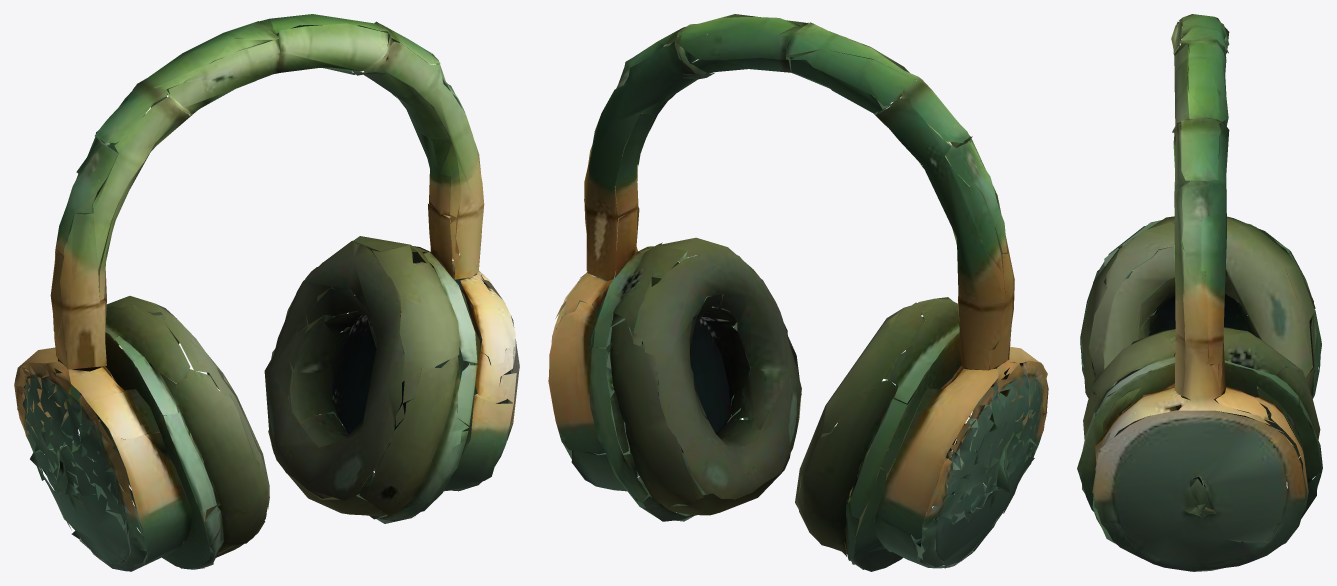
File: bamboo_phones.glb
3 renders of one model, left to right at view 1: azimuth 30°, elevation 25°; view 2: azimuth 150°, elevation 25°; view 3: azimuth 270°, elevation 25°, orthographic. The views are drawn at different scales.
Parts seen in each view (by area): view 1: low; view 2: low; view 3: low.
Boxes of the visible parts, x1,y1,x2,y2 form: low: [14, 14, 519, 571]; low: [548, 14, 1048, 571]; low: [1077, 14, 1322, 571].
Bounding box in the file's own units: 1.77 × 2 × 0.9578.
Materials: 1 (1 with a texture image).
